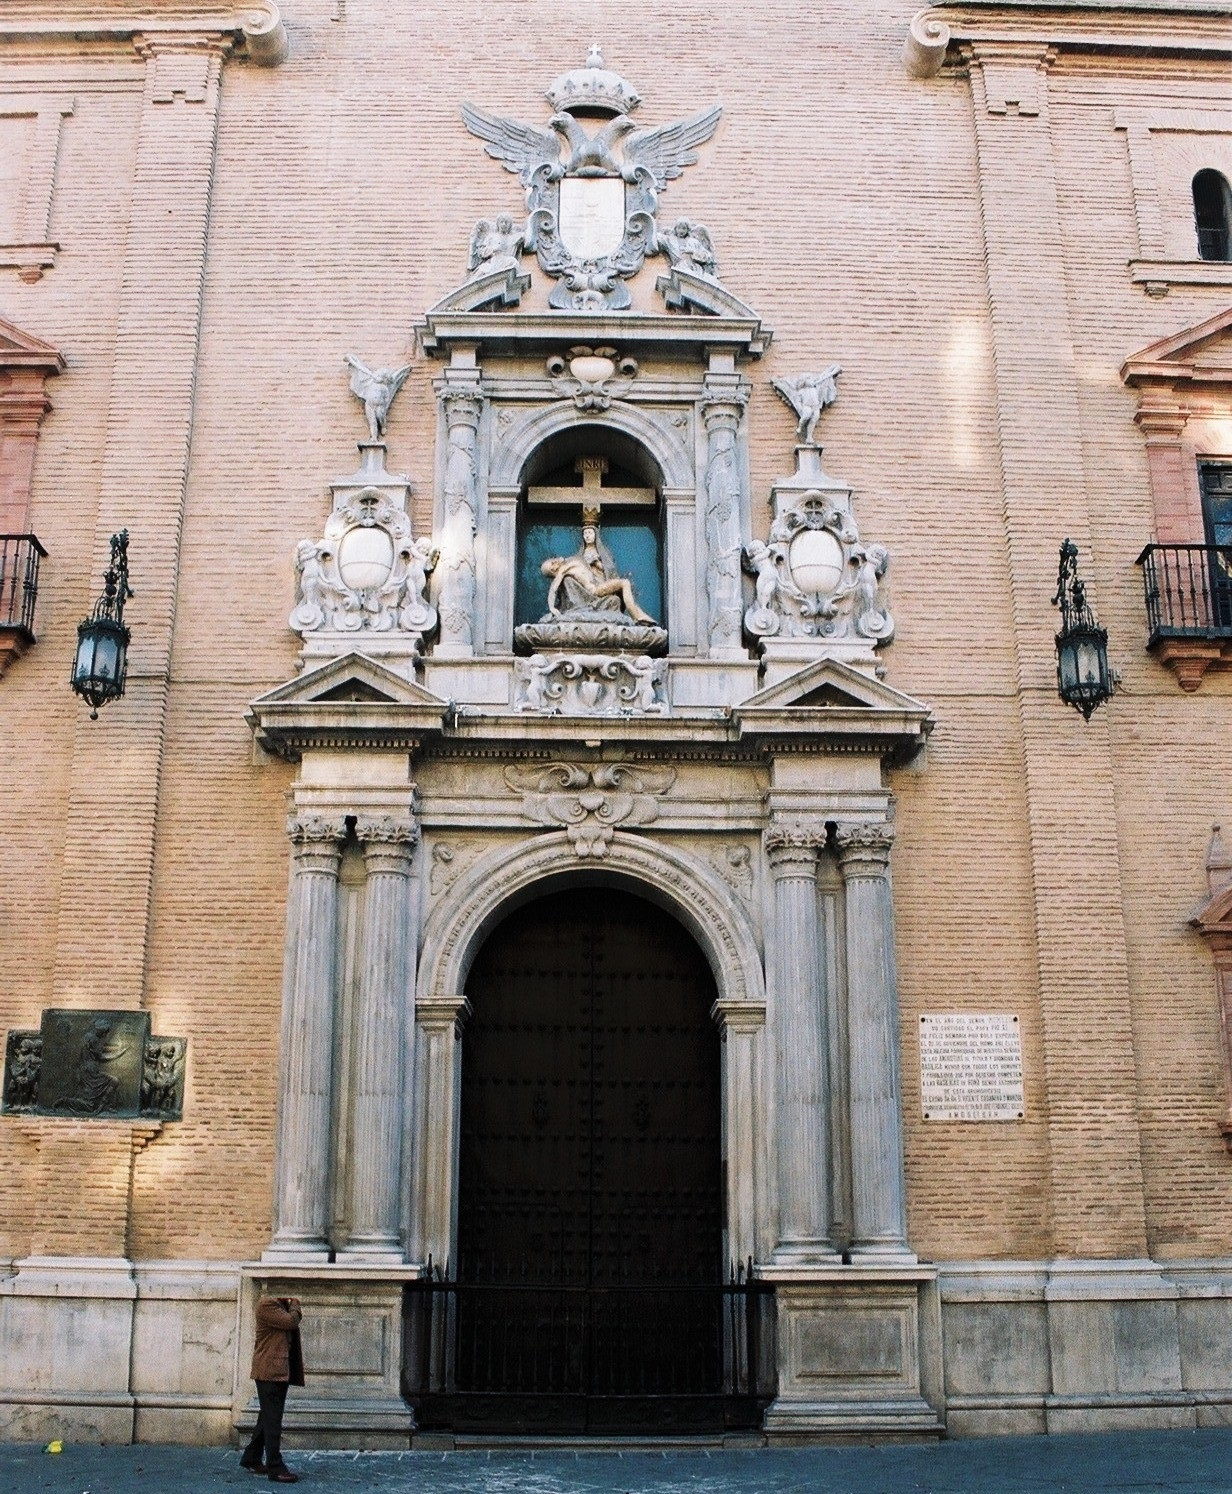arco-medio-punto: (443, 851, 744, 1051), (510, 416, 679, 517)
fronton: (239, 643, 460, 727), (734, 655, 940, 738)
fronton-partido: (421, 261, 774, 352)
